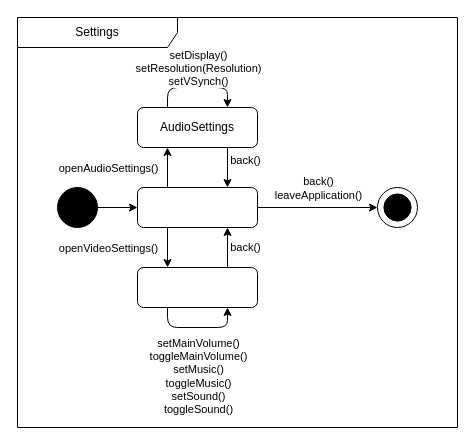
Some shapes in this 475 by 445 pixel diagram are drawn without their labels. The box of each missing label's shape, as (x1, y1, x2, y2) in pixels:
MainSettings: (136, 186, 258, 228)
VideoSettings: (136, 266, 258, 308)
